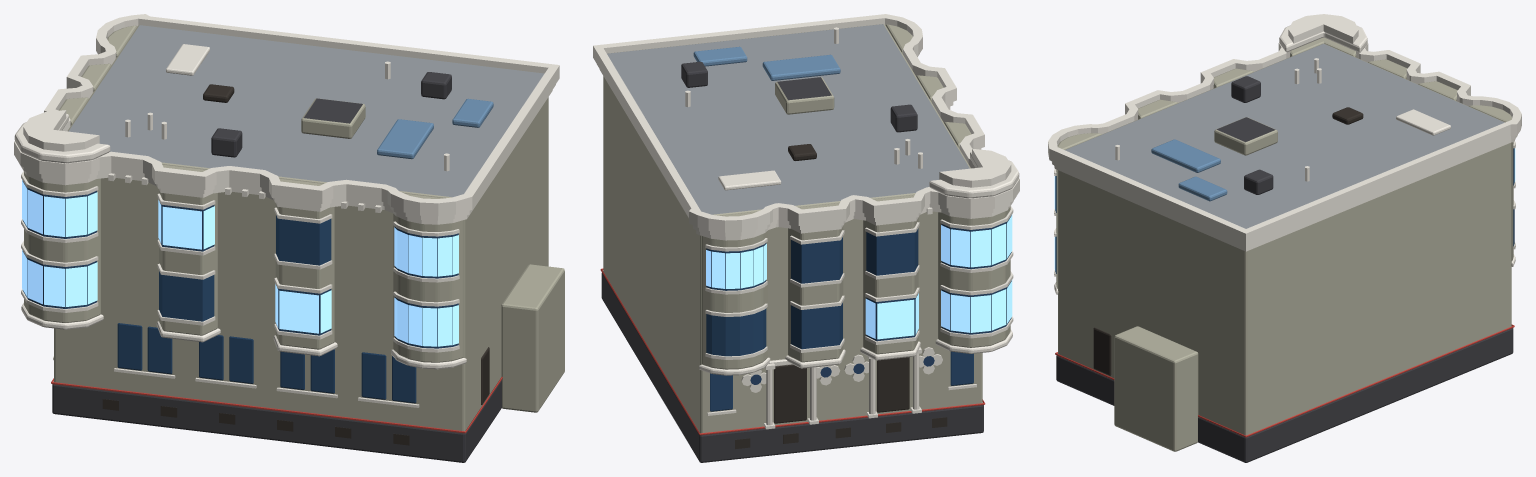
The model's file is 49-south-park.glb.
3 views of the same model, side by side, from view 1: azimuth 30°, elevation 25°; view 2: azimuth 150°, elevation 25°; view 3: azimuth 270°, elevation 25° (orthographic). The views are drawn at different scales.
Parts seen in each view (by area): view 1: body, cornice_crown, basement, rear_stair, flank_round_0_body, turret_body, turret_glow0, turret_glow1, flank_cant_1_body, flank_cant_0_body, flank_round_0_glow1, flank_round_0_glow0 (+24 smaller); view 2: body, cornice_crown, basement, front_round_0_body, turret_body, turret_glow0, turret_glow1, front_cant_0_body, front_cant_1_body, front_round_0_glass0, front_round_0_glow1, front_cant_0_glass1 (+23 smaller); view 3: body, cornice_crown, basement, rear_stair, cornice_mid, cornice_bed, roof_bulkhead, crown_cap, roof_skylight_a, water_table, crown_step, rear_door (+6 smaller).
Boxes of the visible parts, x1=… form: body: x1=54, y1=25, x2=548, y2=431; cornice_crown: x1=14, y1=14, x2=559, y2=216; basement: x1=52, y1=380, x2=501, y2=462; rear_stair: x1=501, y1=264, x2=564, y2=412; flank_round_0_body: x1=393, y1=193, x2=463, y2=362; turret_body: x1=24, y1=172, x2=100, y2=322; turret_glow0: x1=22, y1=250, x2=97, y2=306; turret_glow1: x1=22, y1=180, x2=97, y2=236; flank_cant_1_body: x1=275, y1=178, x2=334, y2=349; flank_cant_0_body: x1=159, y1=164, x2=217, y2=335; flank_round_0_glow1: x1=394, y1=227, x2=458, y2=276; flank_round_0_glow0: x1=394, y1=298, x2=458, y2=346; body: x1=603, y1=24, x2=982, y2=433; cornice_crown: x1=593, y1=14, x2=1019, y2=232; basement: x1=601, y1=273, x2=983, y2=462; front_round_0_body: x1=702, y1=212, x2=767, y2=369; turret_body: x1=938, y1=206, x2=1010, y2=347; turret_glow0: x1=941, y1=280, x2=1012, y2=332; turret_glow1: x1=941, y1=214, x2=1012, y2=267; front_cant_0_body: x1=863, y1=195, x2=918, y2=354; front_cant_1_body: x1=788, y1=203, x2=843, y2=362; front_round_0_glass0: x1=706, y1=308, x2=766, y2=356; front_round_0_glow1: x1=706, y1=243, x2=766, y2=288; front_cant_0_glass1: x1=866, y1=228, x2=918, y2=275; body: x1=1058, y1=43, x2=1511, y2=435; cornice_crown: x1=1048, y1=42, x2=1521, y2=244; basement: x1=1056, y1=328, x2=1513, y2=462; rear_stair: x1=1114, y1=326, x2=1198, y2=451; cornice_mid: x1=1051, y1=135, x2=1517, y2=248; cornice_bed: x1=1054, y1=139, x2=1515, y2=251; roof_bulkhead: x1=1214, y1=117, x2=1277, y2=155; crown_cap: x1=1288, y1=14, x2=1358, y2=43; roof_skylight_a: x1=1151, y1=139, x2=1220, y2=172; water_table: x1=1055, y1=324, x2=1514, y2=437; crown_step: x1=1279, y1=25, x2=1367, y2=52; rear_door: x1=1093, y1=327, x2=1111, y2=375.
Size of the model in its own units: 23.63 by 13 by 22.56.
